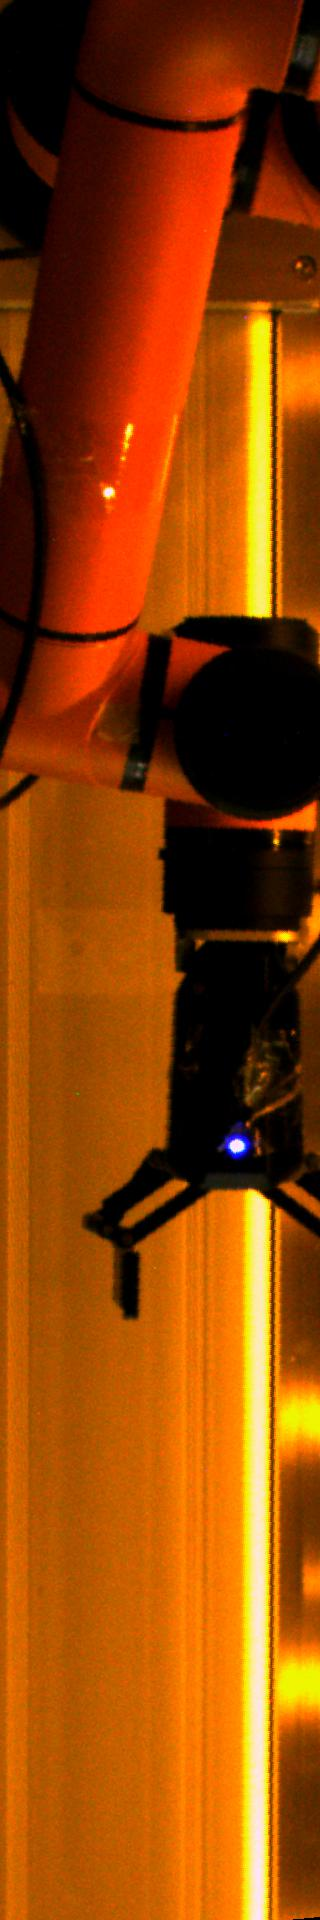keyPoint_1: (222, 1128, 253, 1158)
